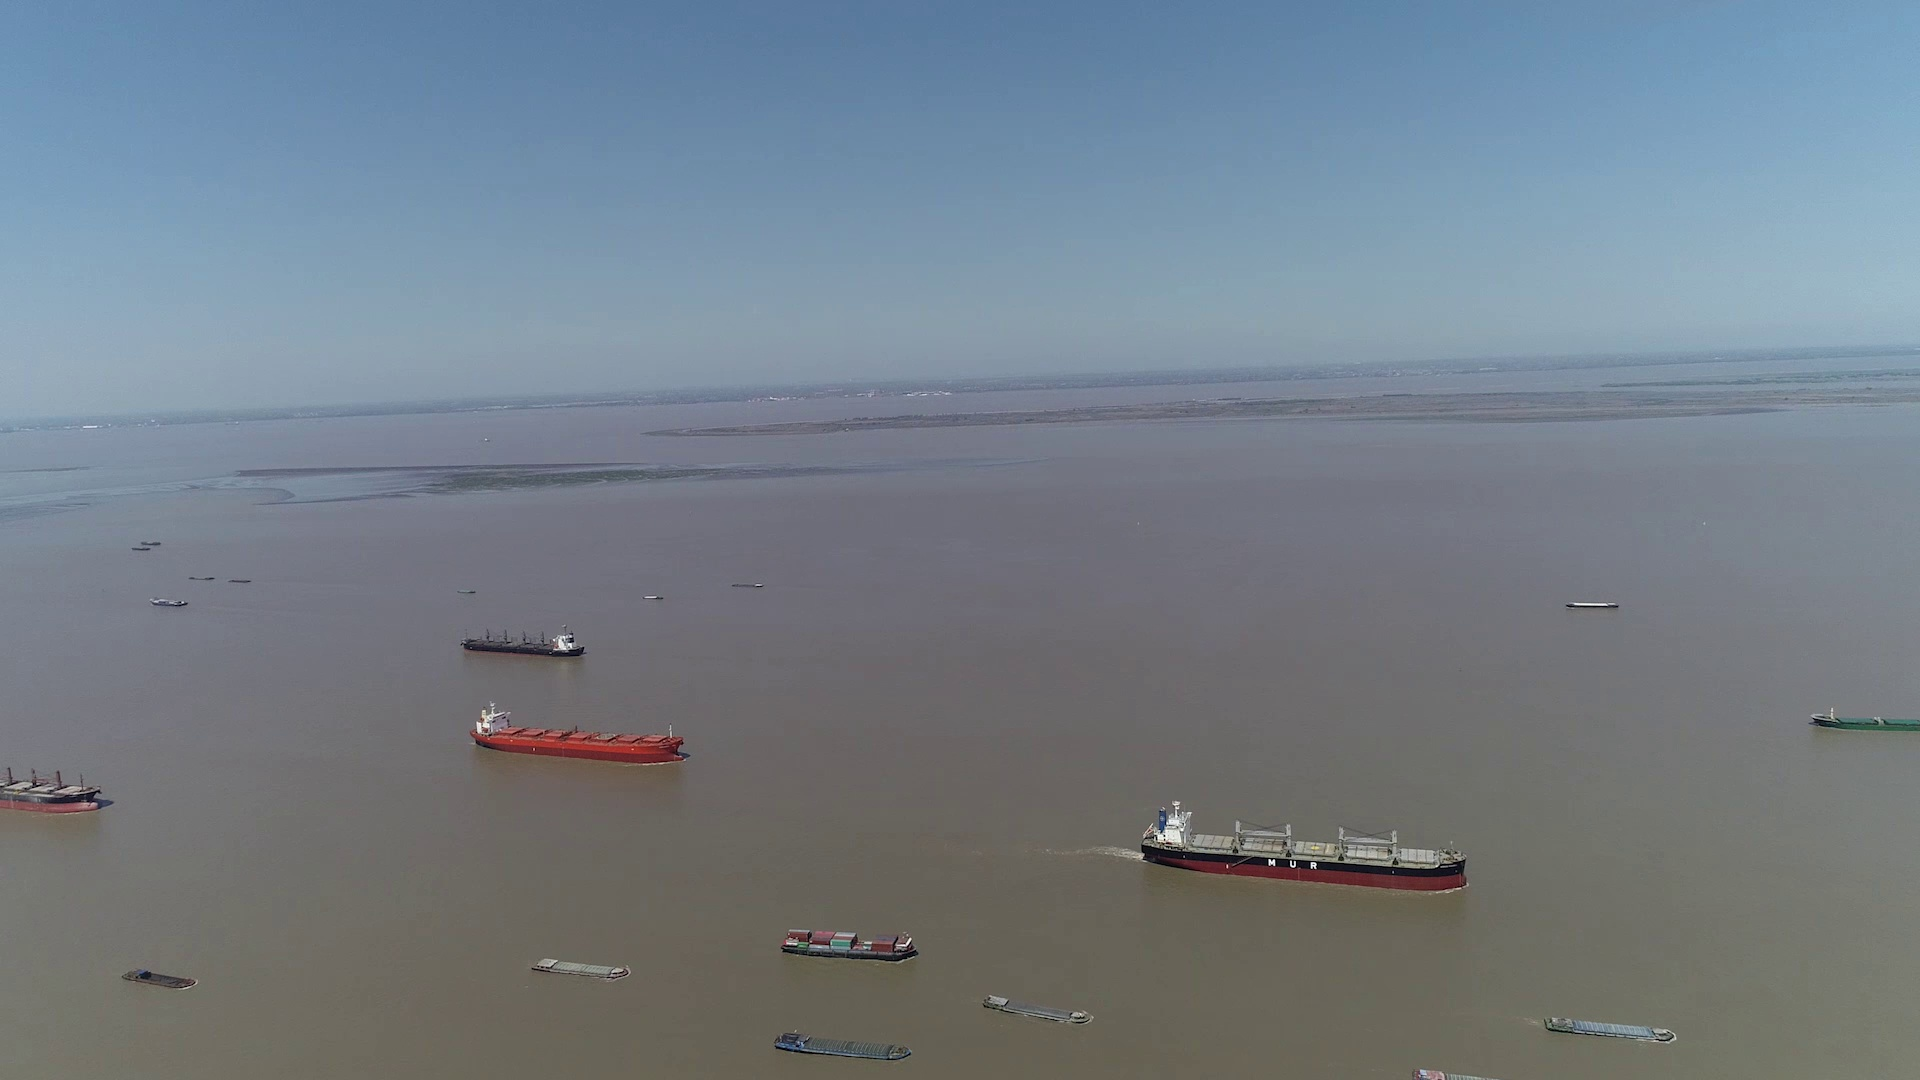ship: (1138, 799, 1470, 891), (472, 703, 684, 765), (3, 756, 105, 814), (779, 927, 919, 963), (773, 1031, 913, 1062), (463, 624, 585, 655), (1543, 1017, 1675, 1044), (982, 993, 1093, 1026), (1811, 709, 1920, 733), (531, 957, 629, 978), (127, 969, 196, 989), (1567, 601, 1617, 609), (152, 597, 190, 607)
